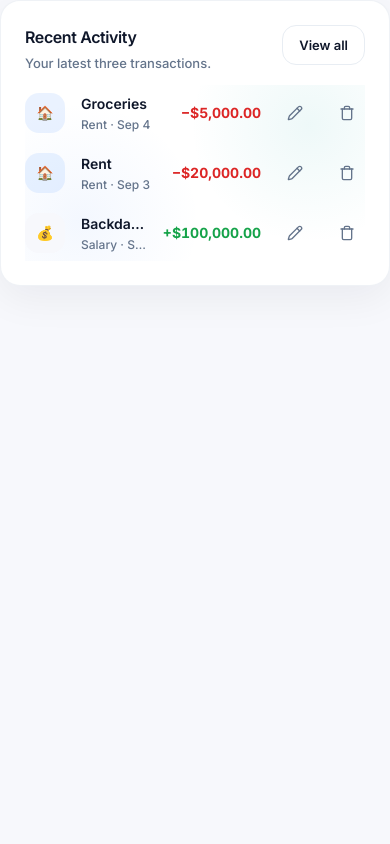
RecentActivity · expense management › opens the existing expense pre-populated in the shared form
The image size is (390, 844).
Click the 2nd button named "Edit transaction". click: click(295, 173)
box: [277,155,313,191]
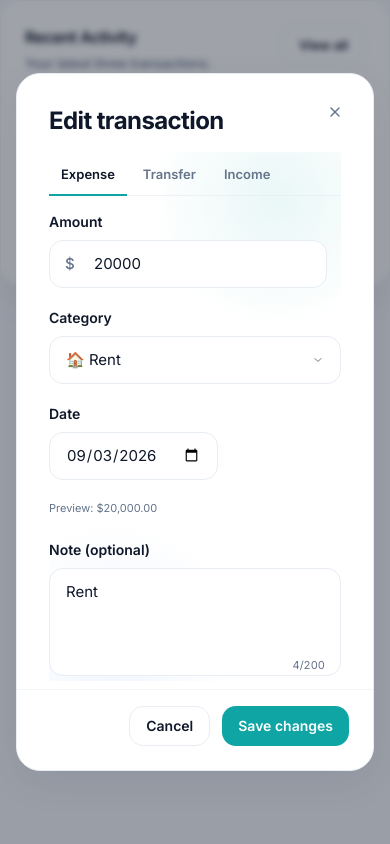
Expected: the field labelled "Amount" holds "20000", [49,240,327,288]
Expected: the text box labelled "Note (optional)" holds "Rent", [49,568,341,676]
